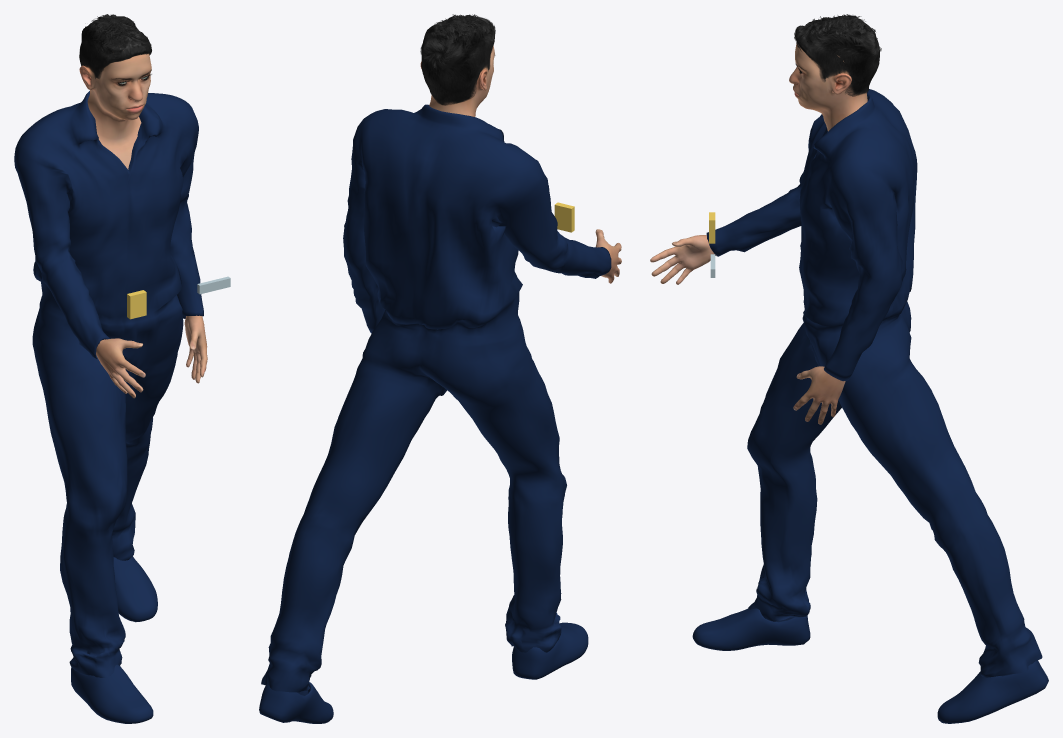
The model's file is polizia-uomo.glb.
The picture shows the model from 3 angles, left to right: view 1: azimuth 30°, elevation 25°; view 2: azimuth 150°, elevation 25°; view 3: azimuth 270°, elevation 25°; orthographic projection. The views are drawn at different scales.
Parts seen in each view (by area): view 1: Human.male_casualsuit01, Human, Human.shoes05, Human.short01, Distintivo, Piastrina polizia; view 2: Human.male_casualsuit01, Human.short01, Human.shoes05, Human; view 3: Human.male_casualsuit01, Human.shoes05, Human, Human.short01.
Part boxes in pixels (box(x1,y1,x2,y2)): Human.male_casualsuit01: box(14, 91, 203, 677); Human: box(79, 53, 207, 398); Human.shoes05: box(71, 519, 157, 723); Human.short01: box(79, 14, 151, 78); Distintivo: box(127, 290, 146, 319); Piastrina polizia: box(197, 276, 230, 294); Human.male_casualsuit01: box(261, 104, 611, 692); Human.short01: box(420, 14, 495, 105); Human.shoes05: box(259, 622, 588, 723); Human: box(420, 45, 621, 283); Human.male_casualsuit01: box(706, 89, 1042, 677); Human.shoes05: box(692, 608, 1048, 723); Human: box(650, 44, 867, 424); Human.short01: box(794, 14, 881, 96).
Bounding box in the file's own units: 0.5665 × 1.82 × 0.9949.
14 materials, 10 textured.
